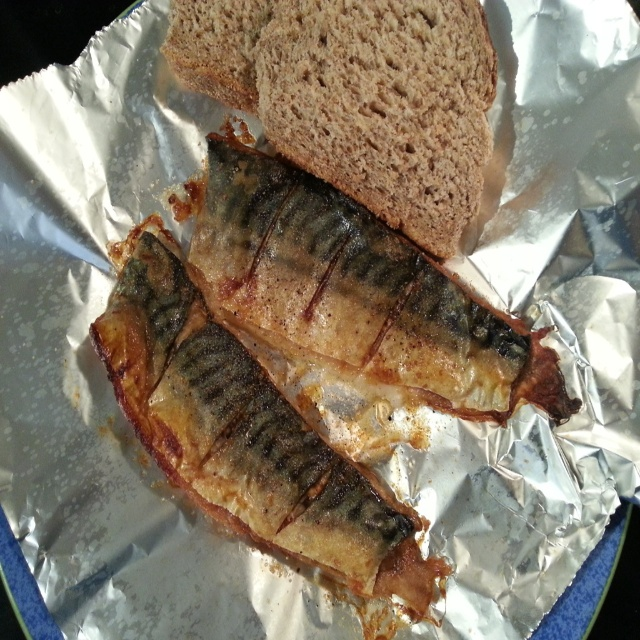Fish: (88, 212, 457, 640), (84, 227, 413, 596), (187, 137, 531, 413)
